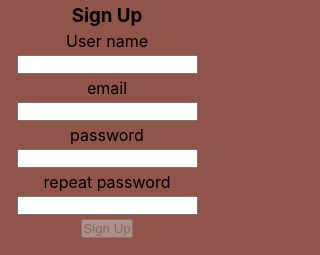
it: interaction with the form › button gets enabled when password and password repeat are same
Type "123" into the password field labelled "password" at (107, 158), box top-left (16, 149), bottom-right (198, 168)
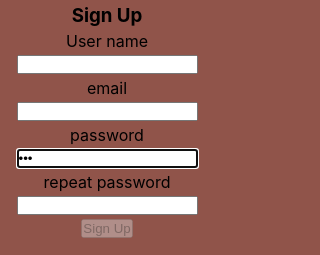
Type "123" into the password field labelled "repeat password" at (107, 206), box top-left (16, 196), bottom-right (198, 215)
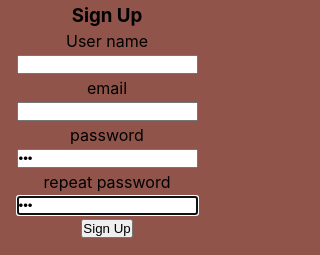
Now the button "Sign Up" is enabled, box top-left (81, 219), bottom-right (133, 238)
